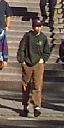person: (13, 22, 50, 115)
